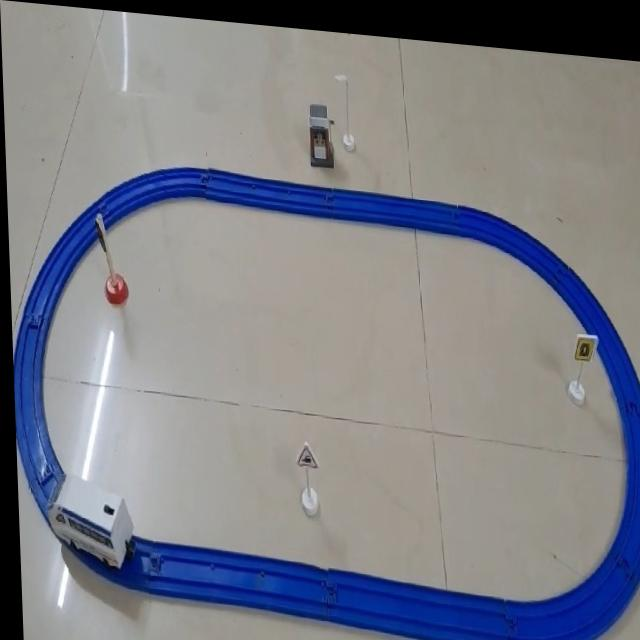bus: (41, 477, 136, 583)
